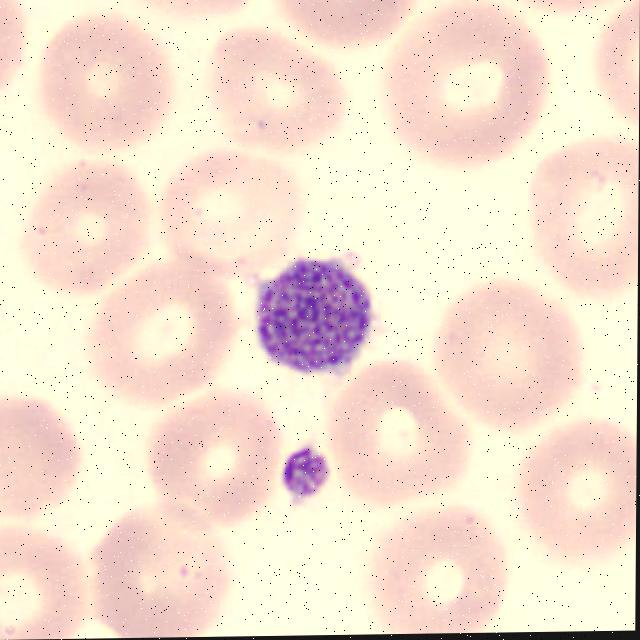platelets: (238, 254, 385, 383), (268, 444, 337, 513)
rbc: (369, 0, 553, 166), (79, 254, 230, 404), (324, 355, 474, 506), (359, 501, 521, 635), (197, 23, 343, 170), (38, 6, 175, 158), (92, 488, 232, 636), (16, 155, 153, 302), (443, 274, 584, 416), (524, 124, 639, 298), (155, 152, 308, 277), (513, 411, 637, 559), (146, 387, 275, 523), (0, 504, 97, 640), (0, 394, 88, 530), (273, 0, 418, 52), (588, 0, 640, 128), (0, 0, 45, 99), (136, 0, 262, 27), (490, 0, 631, 23)
